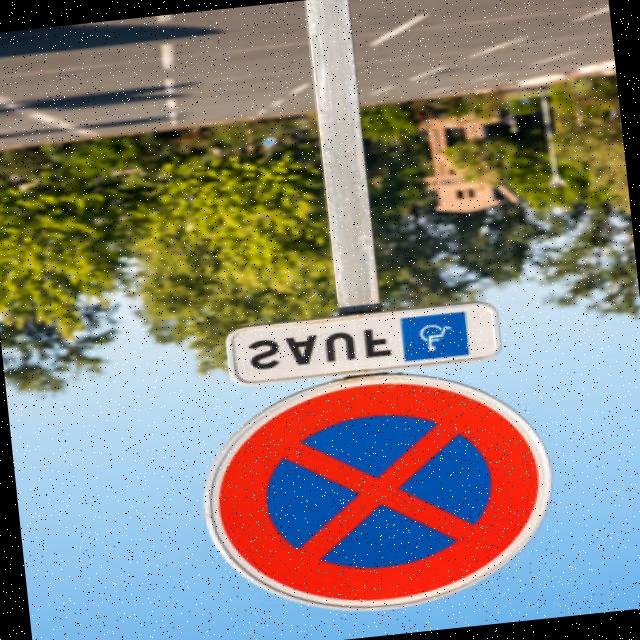no_parking: (210, 349, 565, 632)
